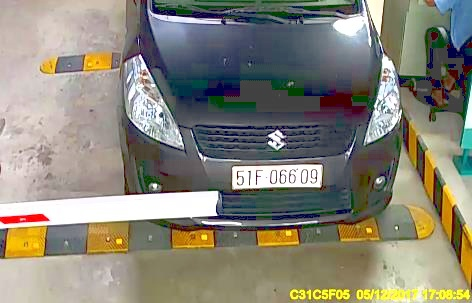plate: (231, 163, 327, 192)
